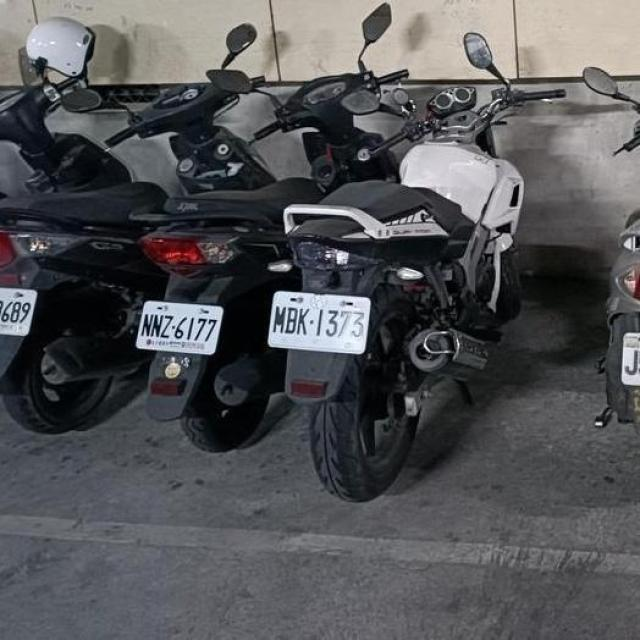W: (263, 285, 376, 359), (133, 289, 226, 362), (0, 276, 39, 341), (615, 323, 640, 392)
